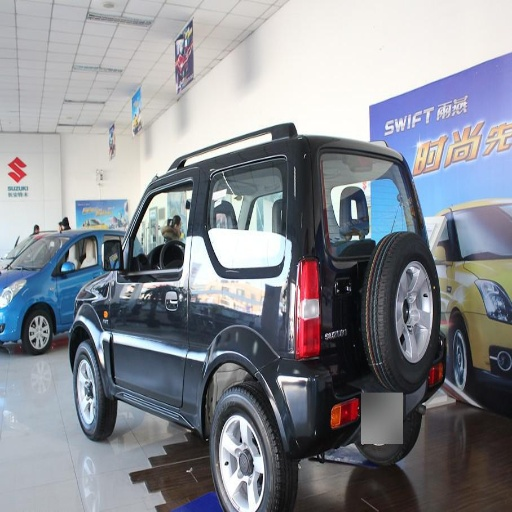front_left_door: (112, 167, 199, 394)
